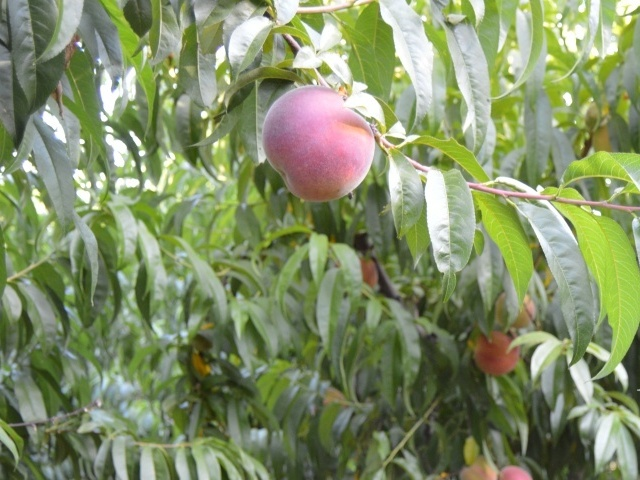peach: (257, 82, 383, 203), (471, 327, 525, 380), (489, 287, 541, 333), (460, 455, 506, 480), (496, 461, 537, 480)
